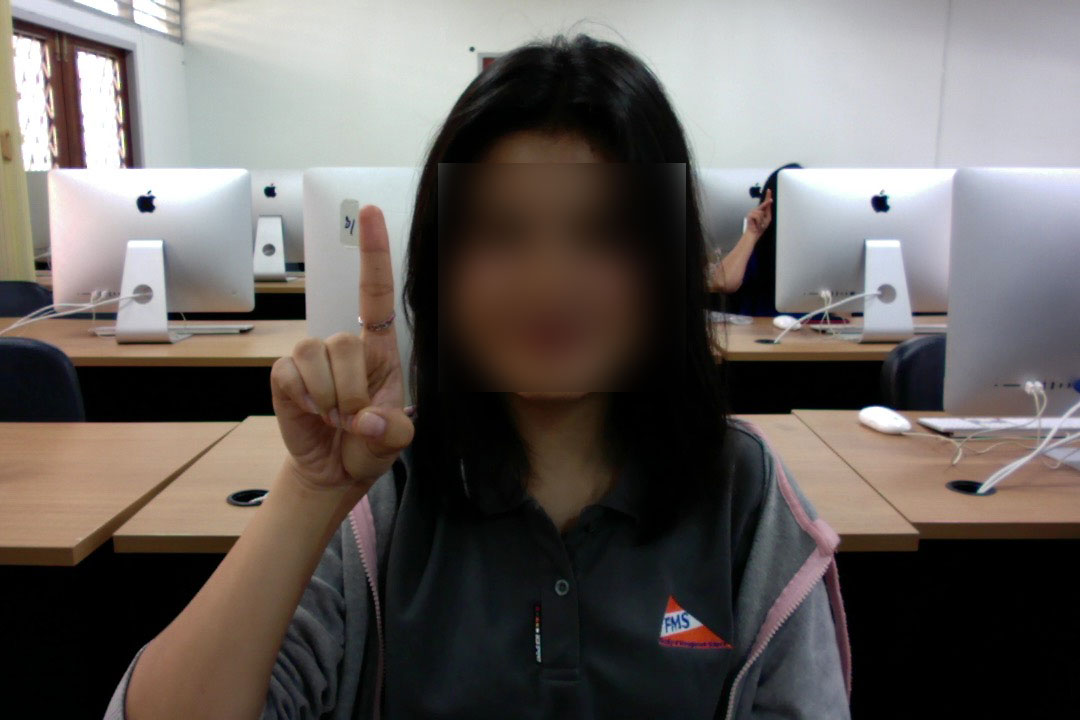dor: (255, 193, 422, 498)
